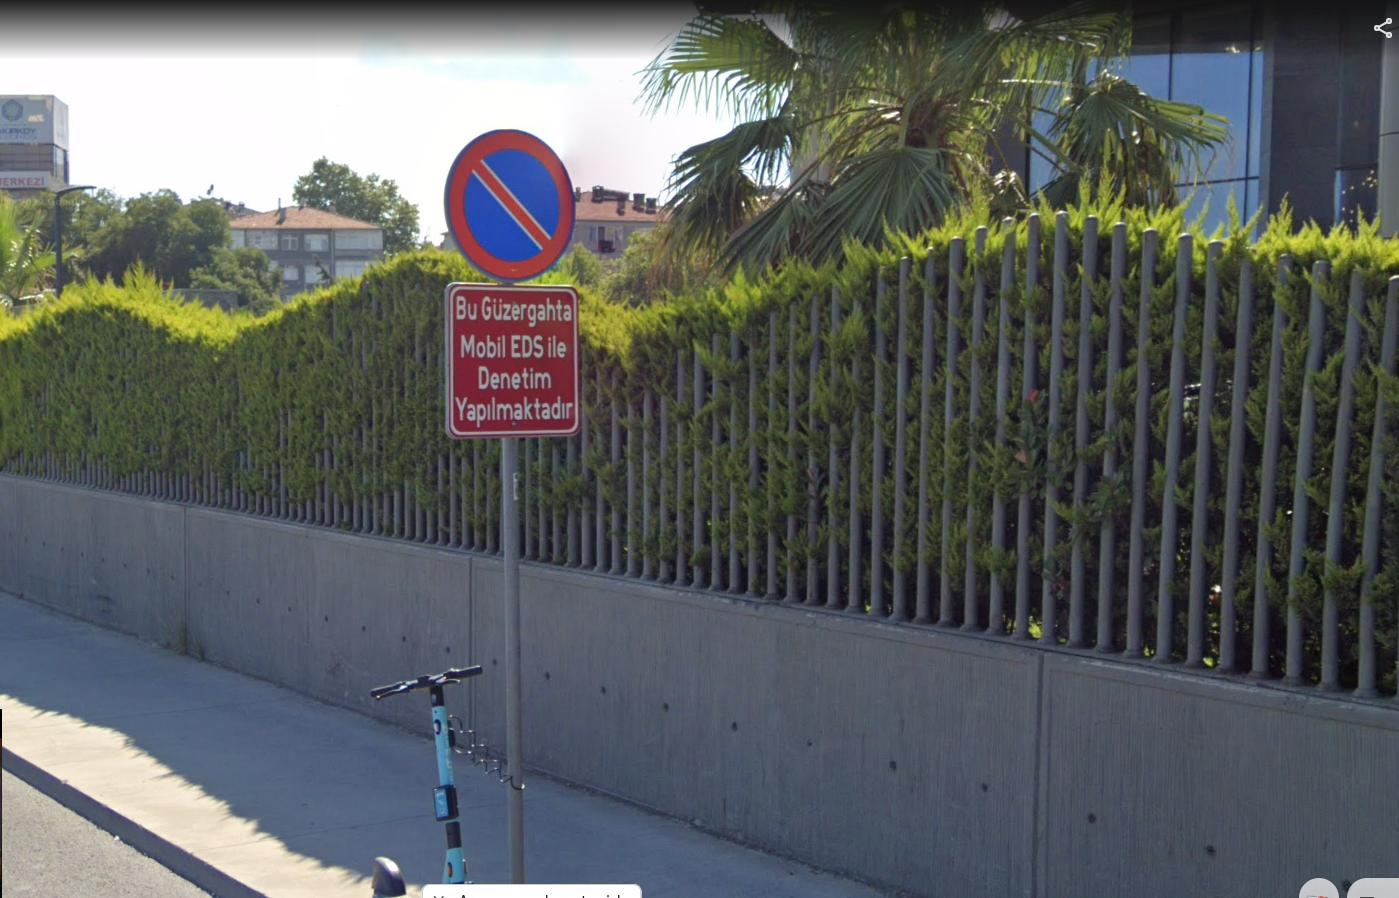nopark: (453, 134, 576, 279)
